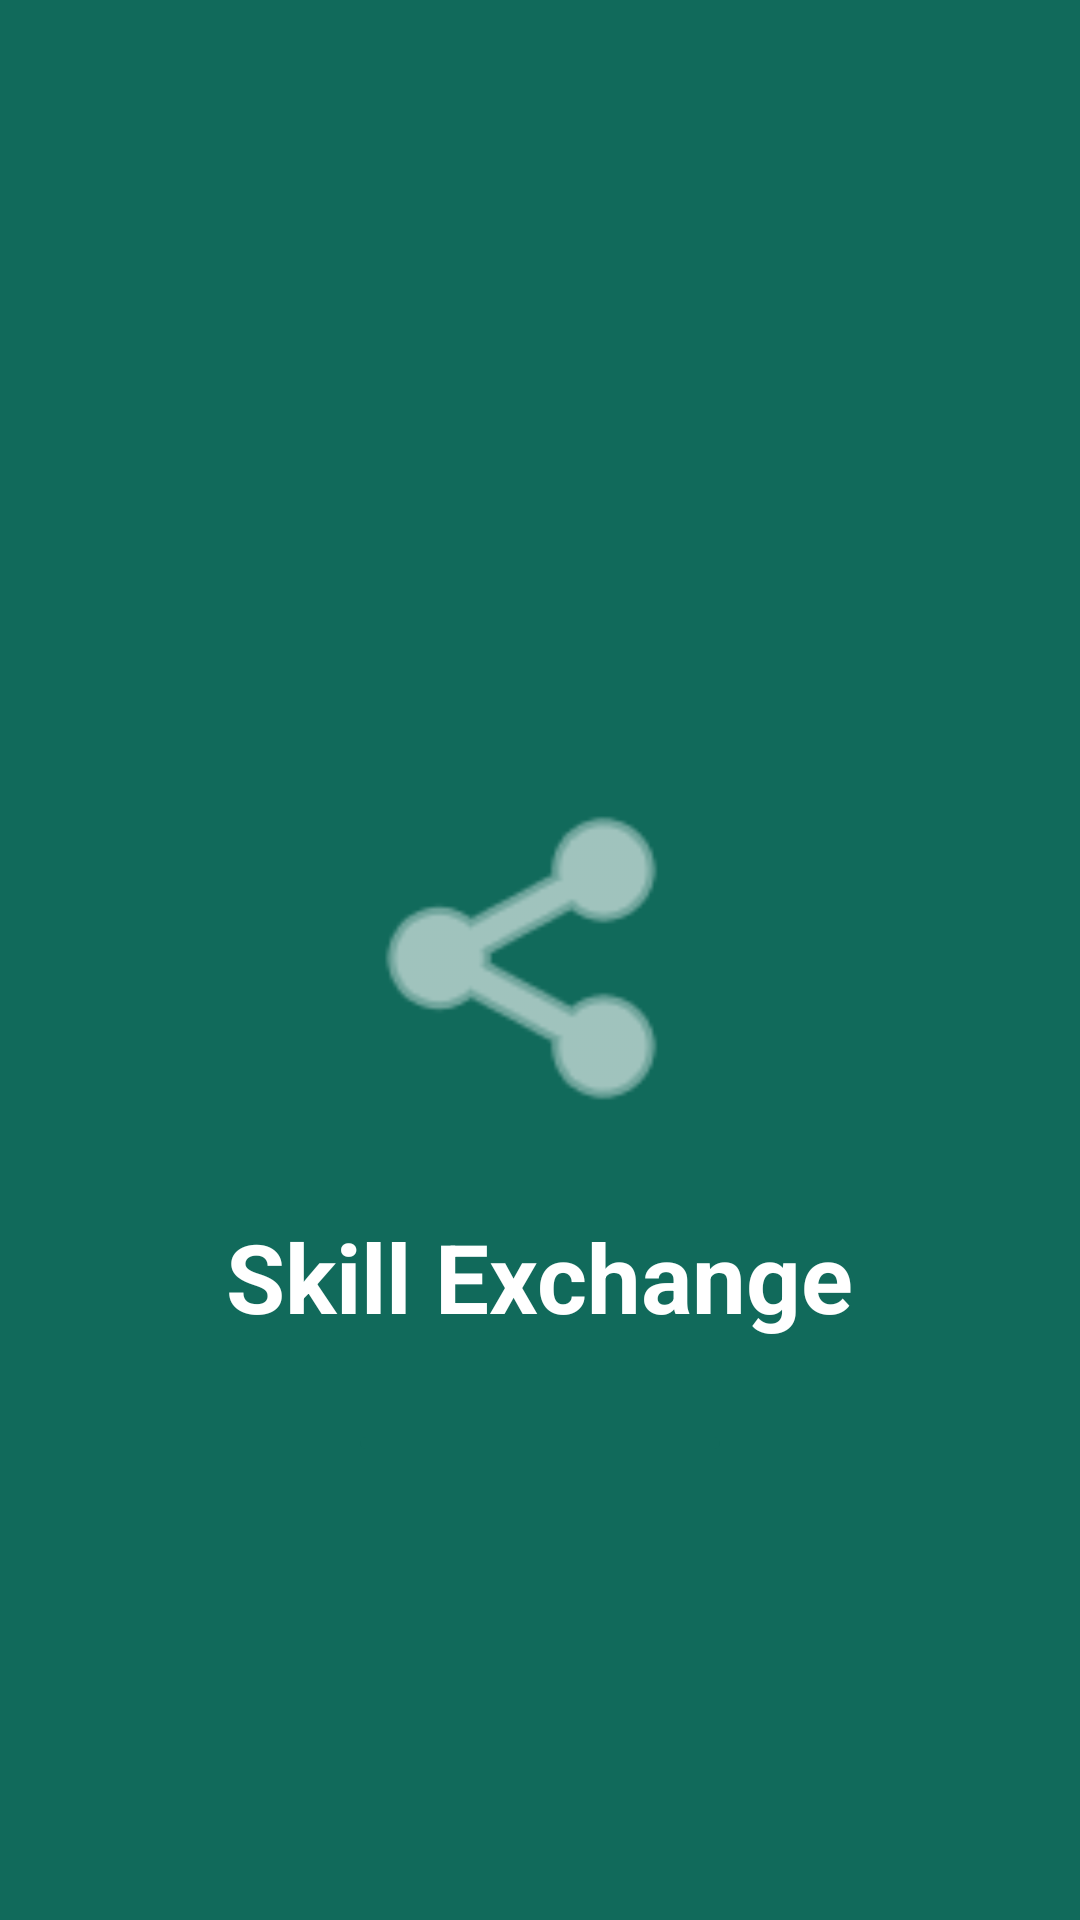

Where to tap for icons on this 1080px×1920px app screen, as point (x, y):
share: point (521, 958)
